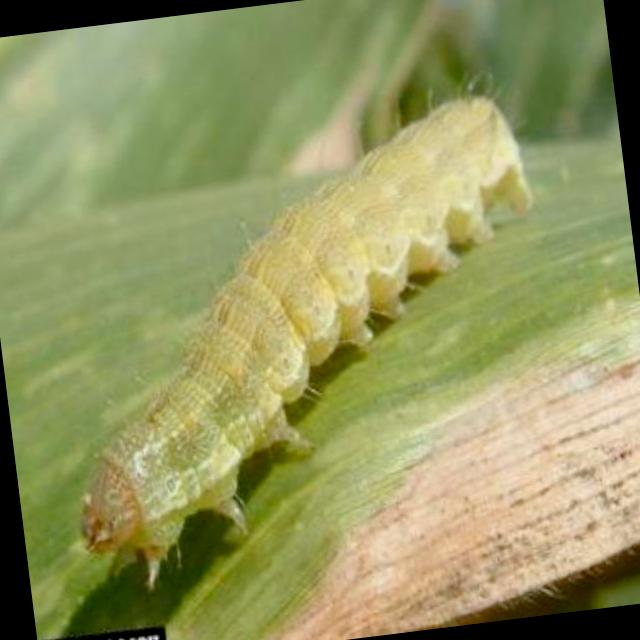Cotton bollworm: (4, 42, 608, 628)
